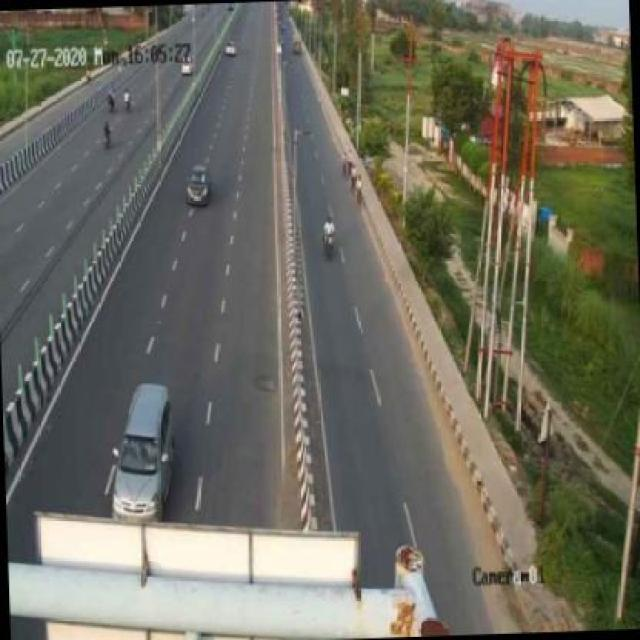car: (108, 382, 177, 518), (180, 160, 217, 211)
